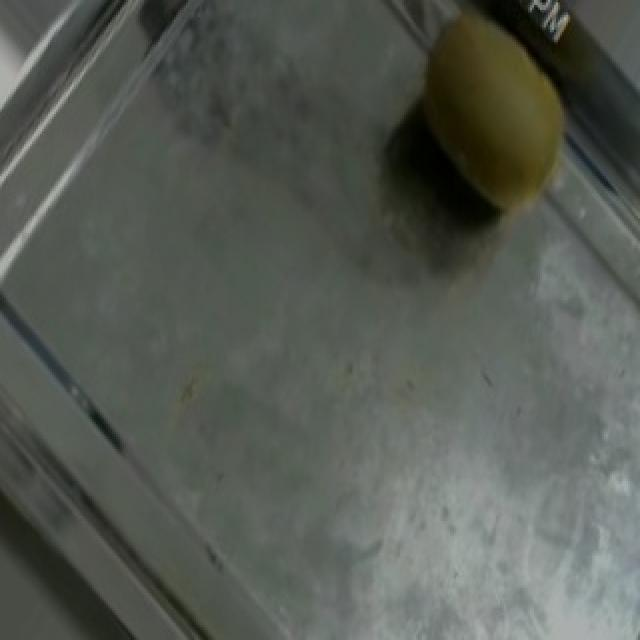Fruit: (374, 0, 606, 256)
